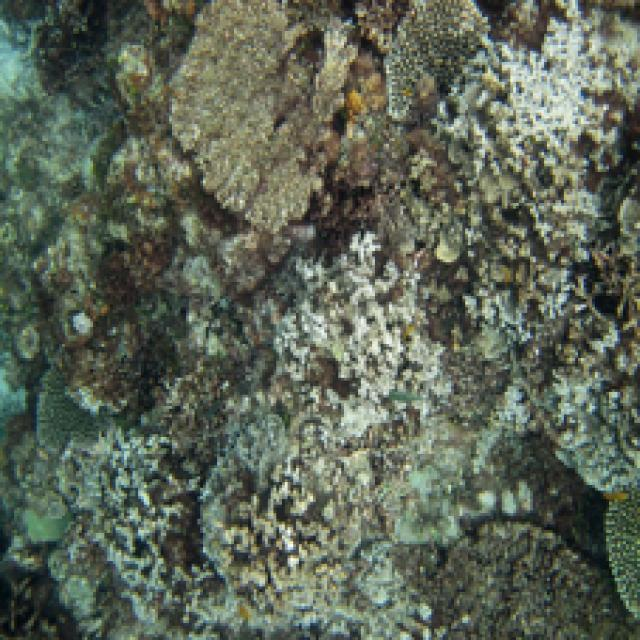Dead Coral: (116, 0, 392, 246), (454, 514, 610, 640)
